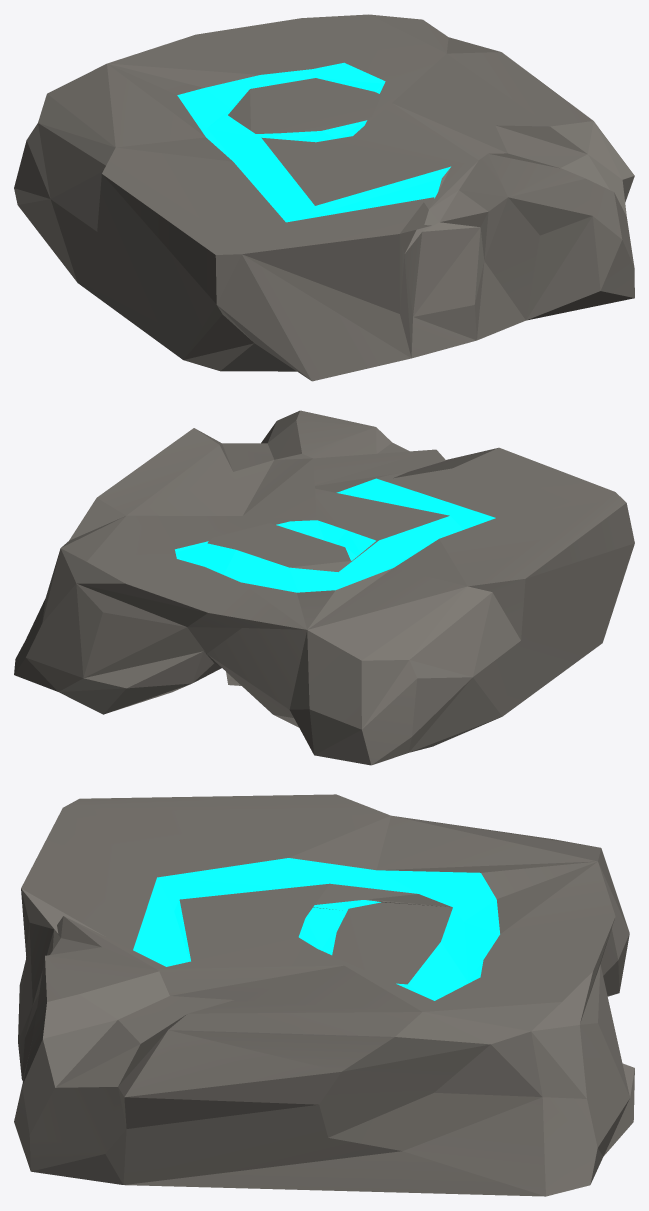
3 renders of one model, top to bottom at view 1: azimuth 30°, elevation 25°; view 2: azimuth 150°, elevation 25°; view 3: azimuth 270°, elevation 25°, orthographic. The views are drawn at different scales.
Parts seen in each view (by area): view 1: Obj3d66-1649282-134-196; view 2: Obj3d66-1649282-134-196; view 3: Obj3d66-1649282-134-196.
Boxes of the visible parts, x1,y1,x2,y2 form: Obj3d66-1649282-134-196: (14, 14, 634, 381); Obj3d66-1649282-134-196: (14, 410, 634, 765); Obj3d66-1649282-134-196: (14, 794, 634, 1196).
Size of the model in its own units: 1005 by 299 by 1039.
Materials: 1 (1 with a texture image).
